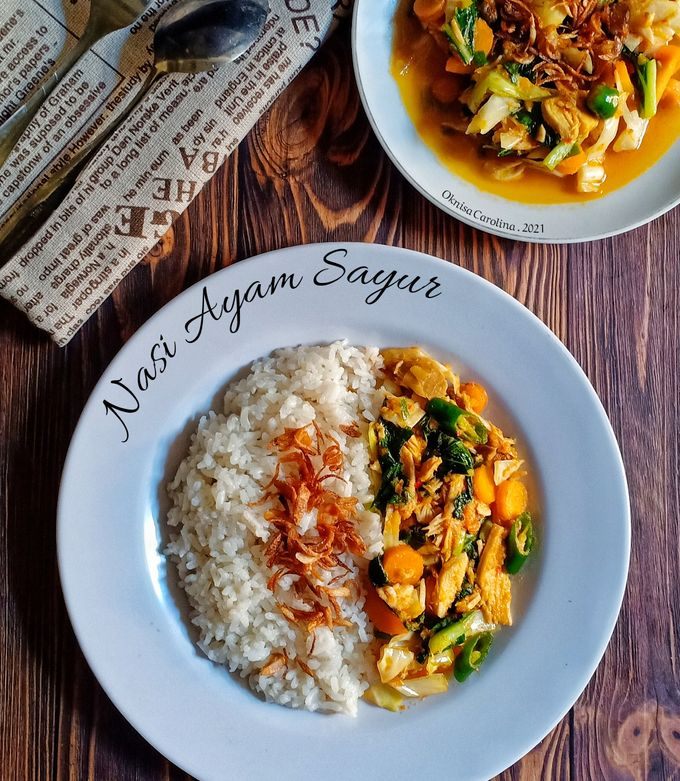buah_sayur_lainnya: (388, 398, 466, 543)
buah_sayur_vitA: (475, 468, 526, 514)
daging: (445, 565, 500, 606)
makanan_berpati: (225, 393, 349, 665)
